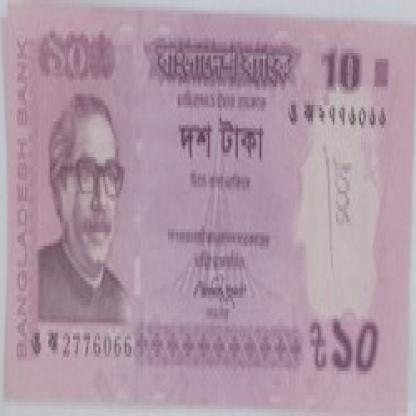Ten Taka: (323, 305, 399, 378), (40, 24, 95, 94), (314, 38, 370, 101)
